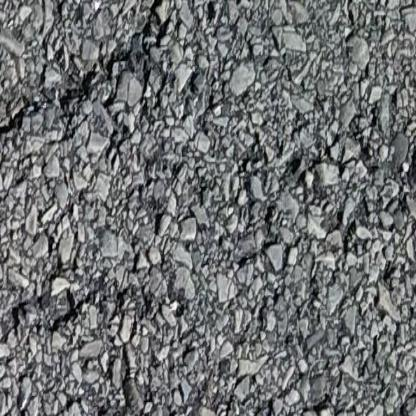Cracks: (0, 0, 168, 192)
